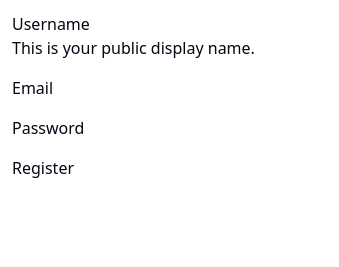
Test: register › should show notification errors when required fields are empty
Click the button "Register".
click(43, 168)  # box [12, 156, 74, 180]
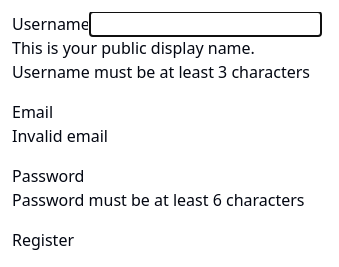
Expected: the text "Username must be at least 3 characters" is shown, [12, 61, 310, 83]
Expected: the text "Invalid email" is shown, [12, 125, 108, 147]
Expected: the text "Password must be at least 6 characters" is shown, [12, 189, 304, 211]
